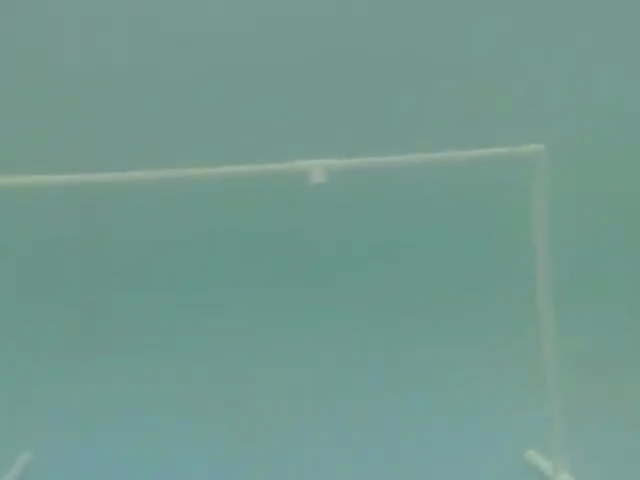gate: (7, 140, 575, 480)
